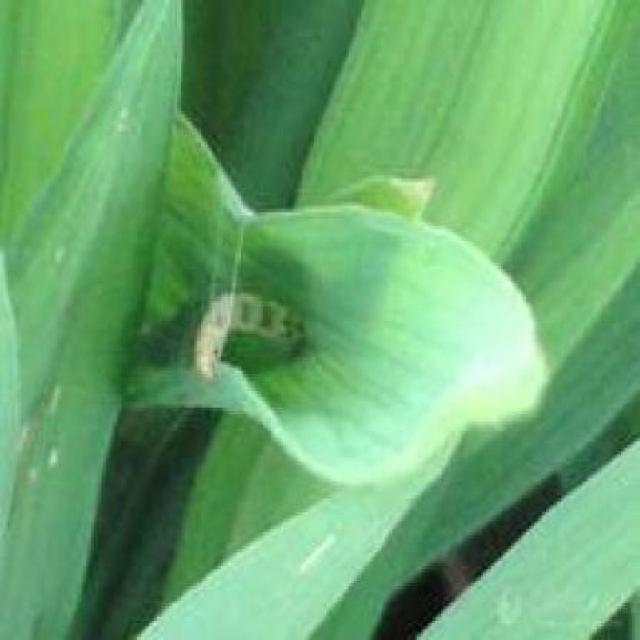leaf-folder: (167, 244, 319, 411)
